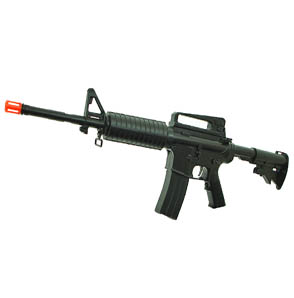rifle: (7, 80, 287, 227)
